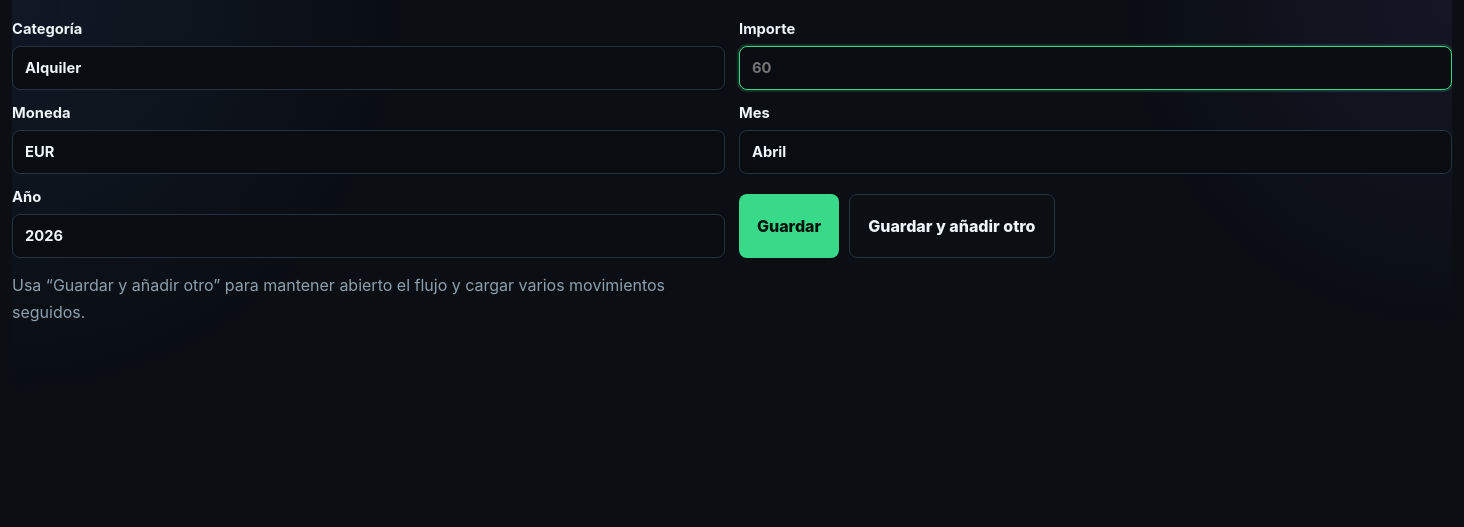
Scenario: QuickAddExpensePanel › guarda un gasto, notifica el modo de guardado y muestra el último movimiento
Select "Alquiler" in the dropdown labelled "Categoría" at (368, 68), box [12,46,725,90]
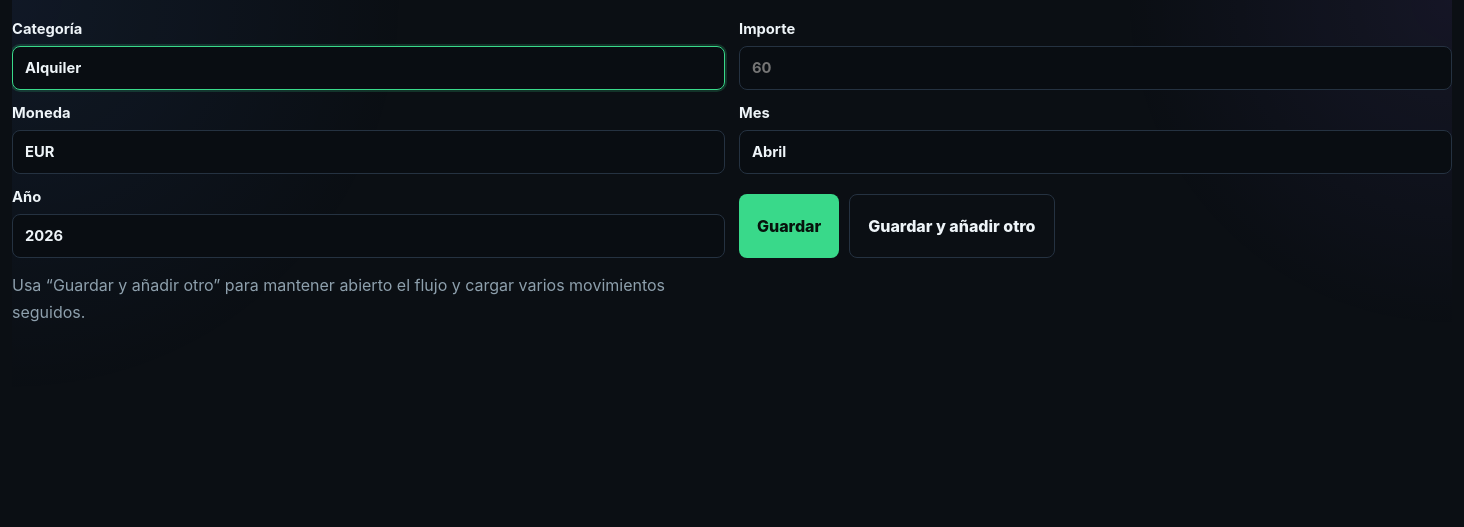
Type "50" into the field labelled "Importe".
click(1096, 68); type("50")  # box [739,46,1452,90]
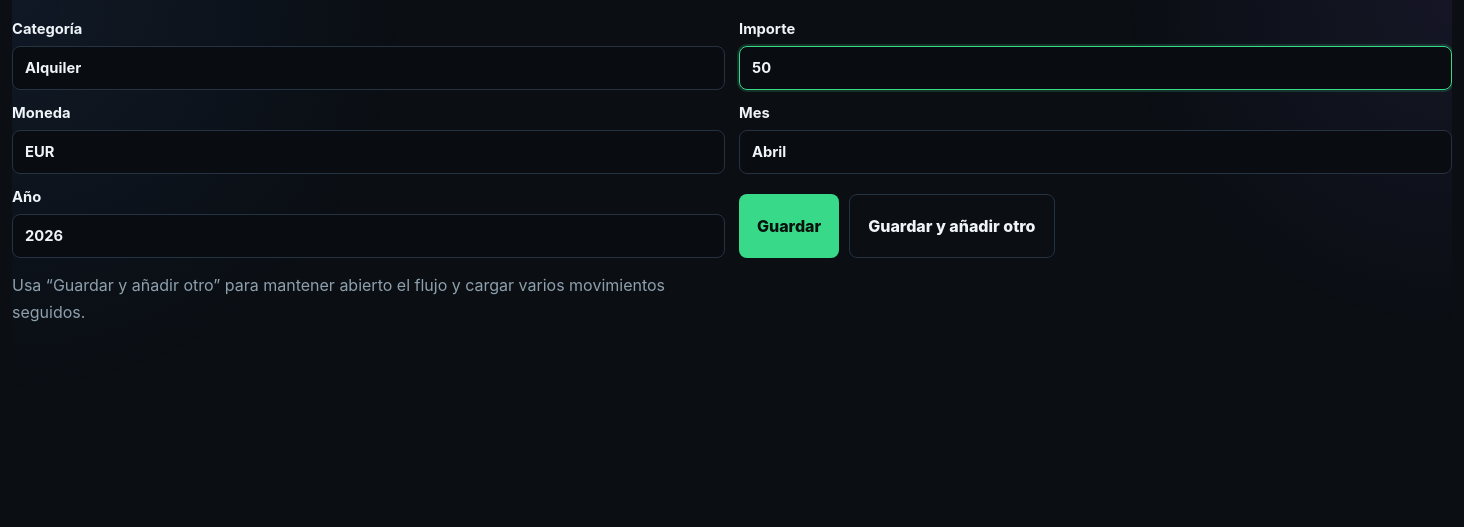
Click the button "Guardar".
click(789, 226)  # box [739,194,839,258]
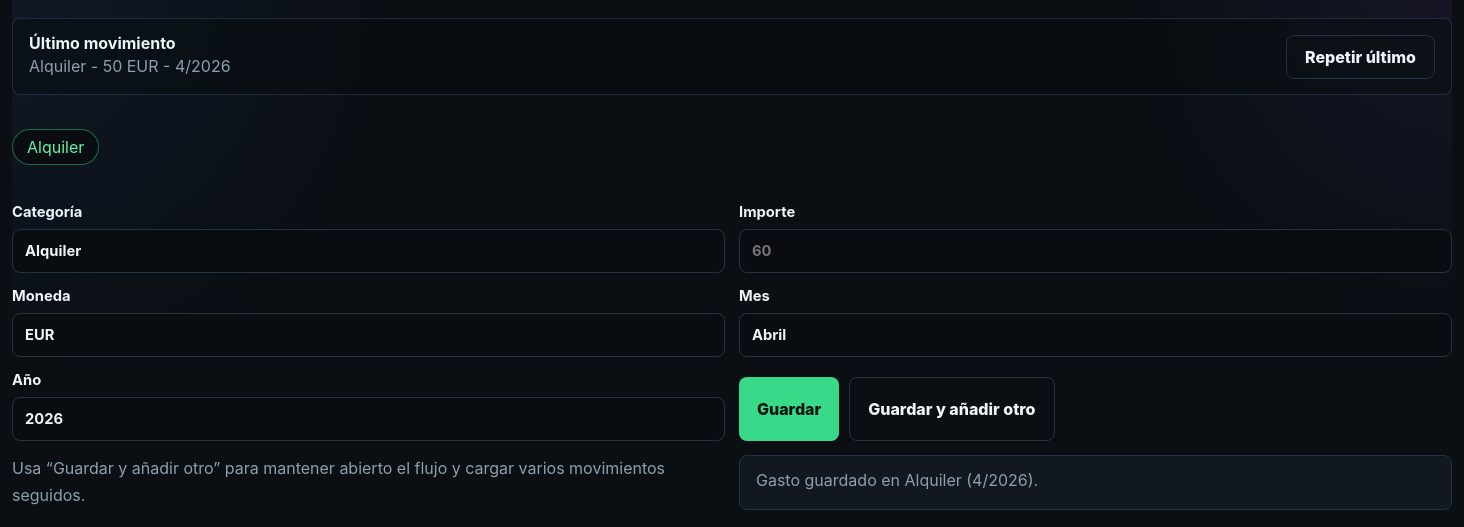
Result: the text "Gasto guardado en Alquiler (4/2026)." is shown at [739,455,1452,510]
Result: the text "Último movimiento" is shown at [29,33,176,53]
Result: the button "Alquiler" is shown at [12,129,99,165]
